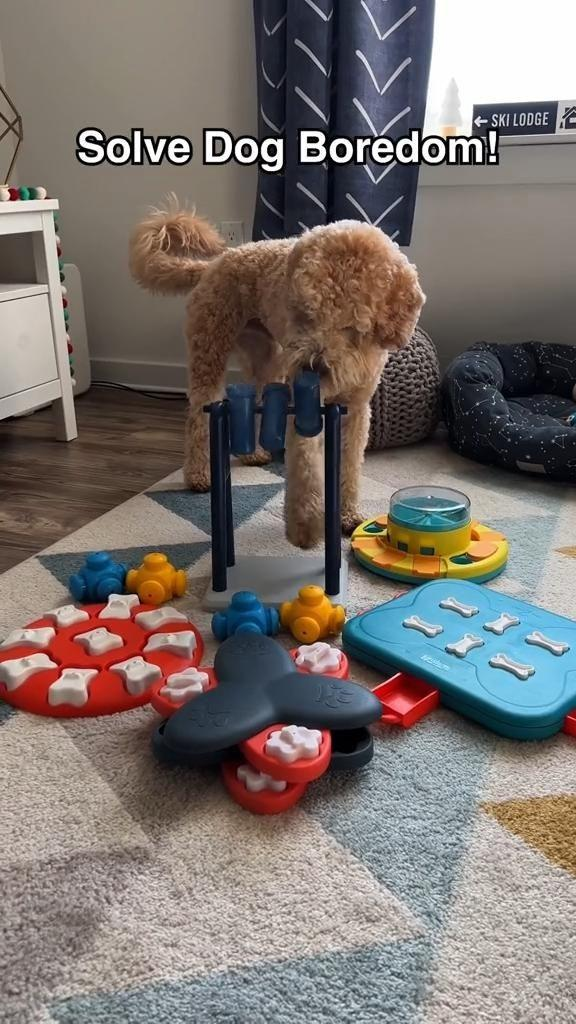adult_dog: (128, 198, 428, 550)
